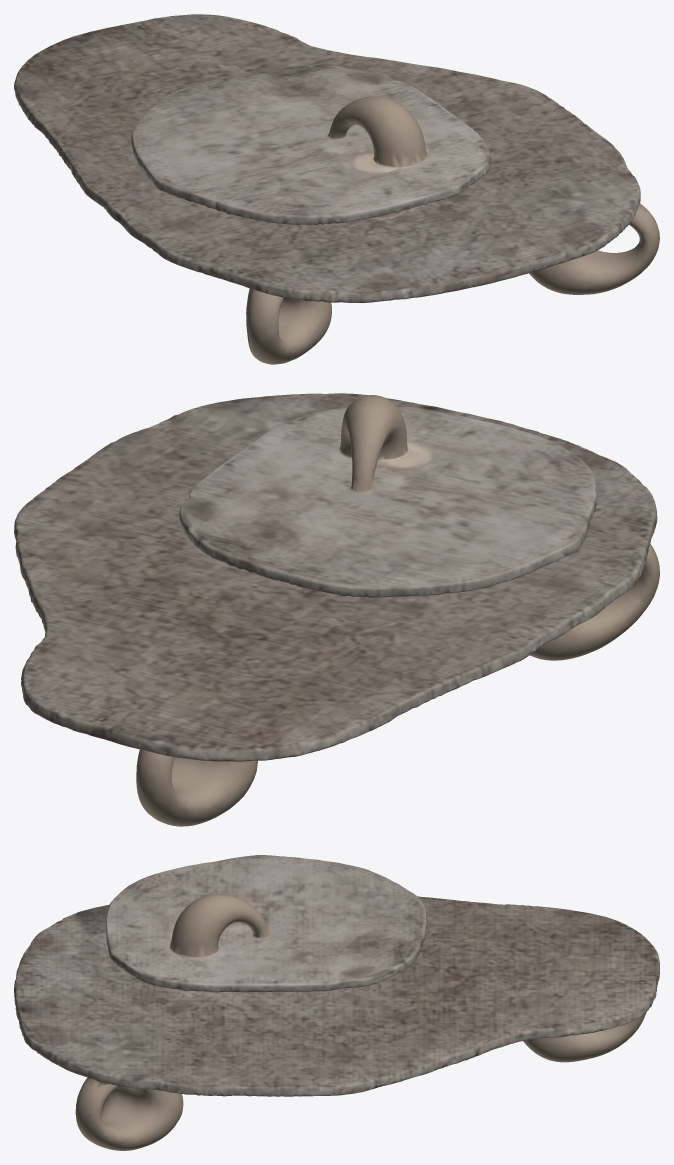
Rendered from bronze-stone-tiered-table.glb.
3 renders of one model, top to bottom at view 1: azimuth 30°, elevation 25°; view 2: azimuth 150°, elevation 25°; view 3: azimuth 270°, elevation 25°, orthographic. The views are drawn at different scales.
Visible parts, largest first — view 1: world; view 2: world; view 3: world.
Boxes of the visible parts, x1,y1,x2,y2 form: world: [14, 14, 659, 364]; world: [14, 393, 659, 826]; world: [14, 855, 659, 1150].
Bounding box in the file's own units: 0.7425 × 0.3197 × 1.
1 material, 1 textured.
